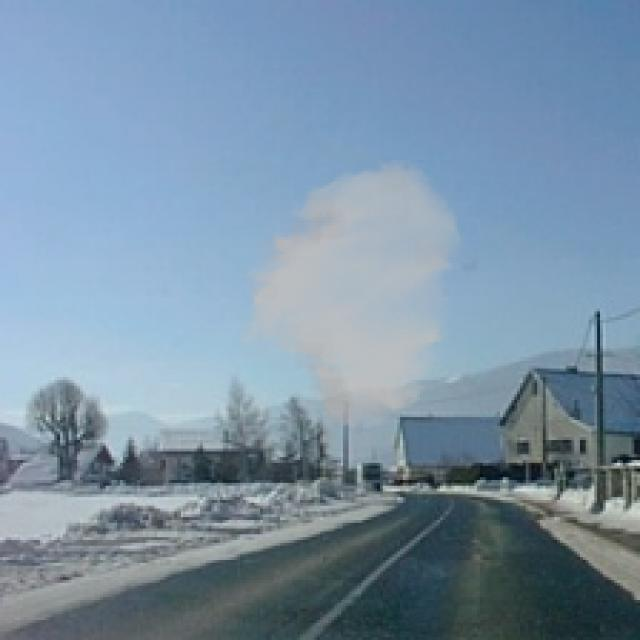Smoke: (237, 157, 463, 432)
